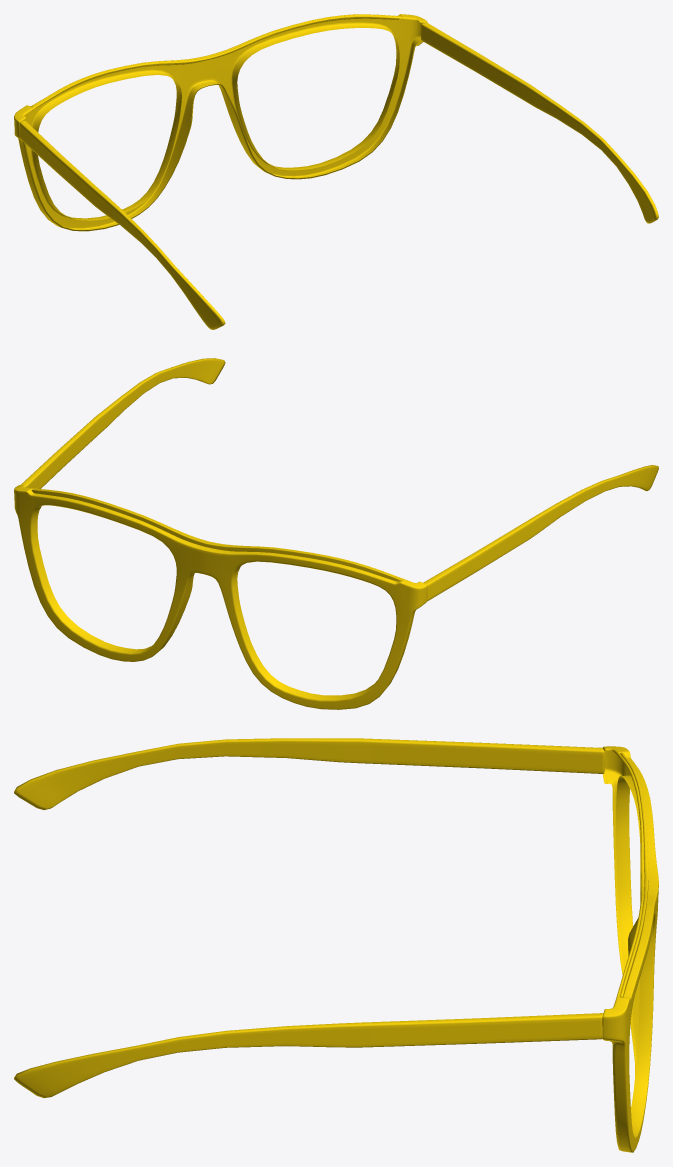
3 renders of one model, top to bottom at view 1: azimuth 30°, elevation 25°; view 2: azimuth 150°, elevation 25°; view 3: azimuth 270°, elevation 25°, orthographic. The views are drawn at different scales.
Parts seen in each view (by area): view 1: am_body; view 2: am_body; view 3: am_body.
Part boxes in pixels (box(x1,y1,x2,y2)): am_body: box(14, 14, 658, 329); am_body: box(14, 358, 658, 709); am_body: box(14, 738, 658, 1152).
Bounding box in the file's own units: 14.92 × 4.9 × 13.72.
